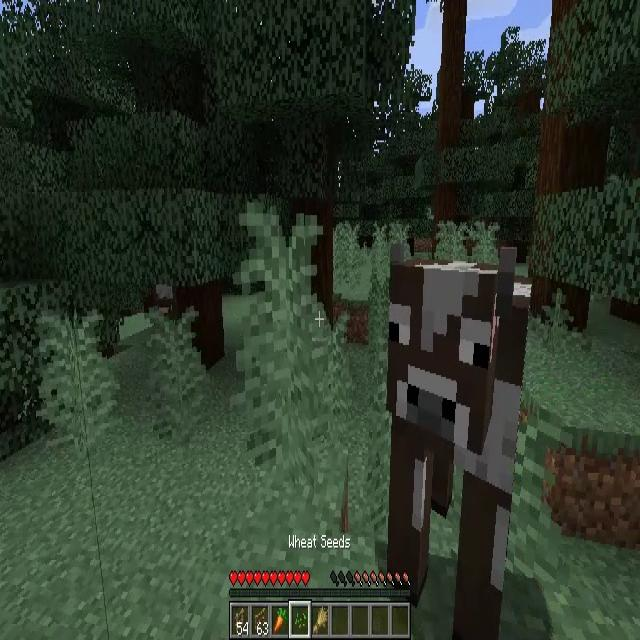cow: (390, 247, 532, 640)
